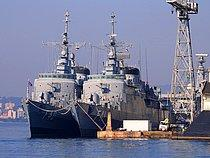MIL_Ship: (70, 12, 176, 137), (21, 8, 90, 139)
